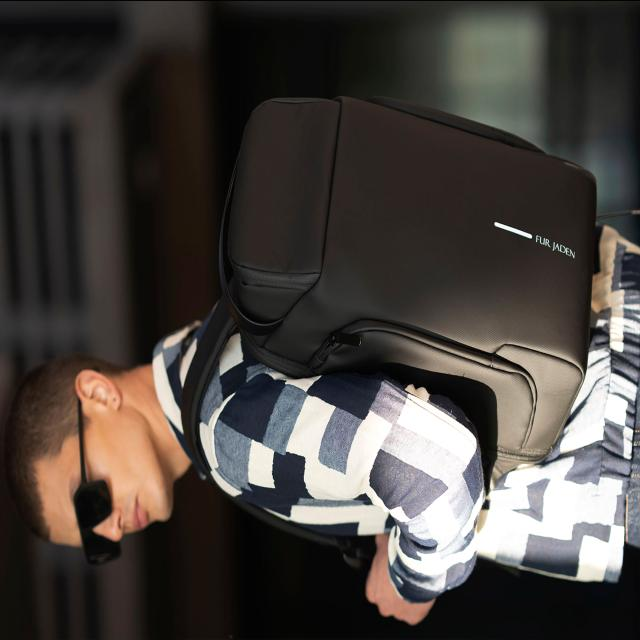backpack: (181, 94, 599, 554)
